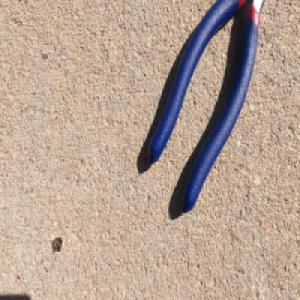Pliers: (146, 0, 266, 215)
